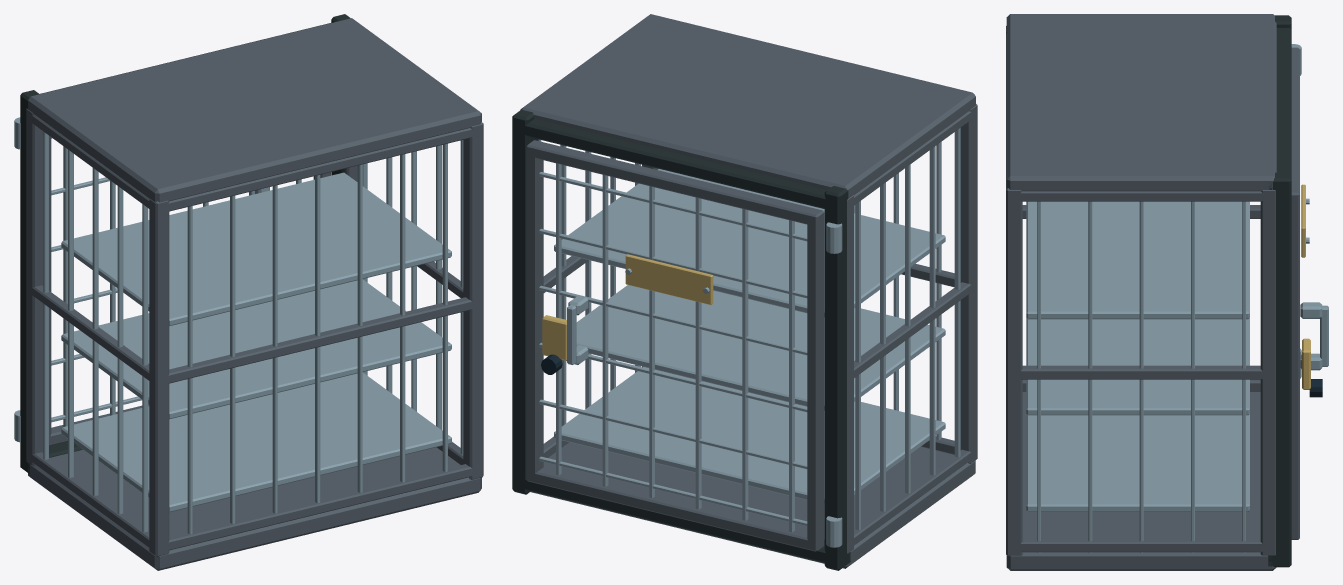
File: harbor_cargo_cage.glb
3 renders of one model, left to right at view 1: azimuth 30°, elevation 25°; view 2: azimuth 150°, elevation 25°; view 3: azimuth 270°, elevation 25°, orthographic. The views are drawn at different scales.
Visible parts, largest first — view 1: interior_shelf (×3), body_roof, body_cage_post (×3), body_floor, body_side_grid (×9), body_back_grid (×7), body_back_rail (×3), body_side_rail (×3), front_side_frame, moving_door_grille (×2), moving_door_upright; view 2: interior_shelf (×3), body_roof, moving_door_grille (×12), front_side_frame (×2), body_side_grid (×7), moving_door_upright (×2), body_floor, moving_door_rail (×2), front_cross_frame (×2), body_cage_post (×2), body_side_rail (×3), moving_cargo_id_plate (+3 smaller); view 3: interior_shelf (×3), body_roof, body_floor, body_cage_post (×2), body_side_rail (×3), body_side_grid (×5), front_side_frame, moving_door_upright, front_cross_frame, moving_door_rail, moving_handle_grip, moving_lock_plate.
Part boxes in pixels (box(x1,y1,x2,y2)): interior_shelf (×3): box(61, 172, 451, 512); body_roof: box(28, 18, 481, 202); body_cage_post (×3): box(26, 108, 483, 556); body_floor: box(28, 447, 481, 570); body_side_grid (×9): box(43, 131, 463, 532); body_back_grid (×7): box(187, 143, 447, 545); body_back_rail (×3): box(158, 127, 482, 551); body_side_rail (×3): box(26, 112, 155, 551); front_side_frame: box(20, 90, 39, 473); moving_door_grille (×2): box(63, 146, 115, 426); moving_door_upright: box(49, 136, 51, 445); interior_shelf (×3): box(554, 169, 945, 503); body_roof: box(520, 14, 975, 198); moving_door_grille (×12): box(539, 163, 807, 532); front_side_frame (×2): box(512, 109, 850, 570); body_side_grid (×7): box(560, 128, 960, 541); moving_door_upright (×2): box(526, 140, 824, 551); body_floor: box(530, 442, 975, 568); moving_door_rail (×2): box(526, 140, 824, 551); front_cross_frame (×2): box(512, 119, 847, 564); body_cage_post (×2): box(847, 104, 977, 553); body_side_rail (×3): box(848, 111, 975, 549); moving_cargo_id_plate: box(625, 254, 713, 304); interior_shelf (×3): box(1026, 201, 1249, 511); body_roof: box(1006, 14, 1276, 191); body_floor: box(1006, 391, 1276, 570); body_cage_post (×2): box(1006, 184, 1275, 556); body_side_rail (×3): box(1008, 191, 1274, 552); body_side_grid (×5): box(1037, 201, 1245, 553); front_side_frame: box(1268, 172, 1291, 567); moving_door_upright: box(1291, 189, 1299, 539); front_cross_frame: box(1269, 28, 1291, 196); moving_door_rail: box(1291, 48, 1299, 203); moving_handle_grip: box(1320, 305, 1328, 366); moving_lock_plate: box(1302, 338, 1310, 389).
Bounding box in the file's own units: 1.53 × 1.75 × 1.26.
